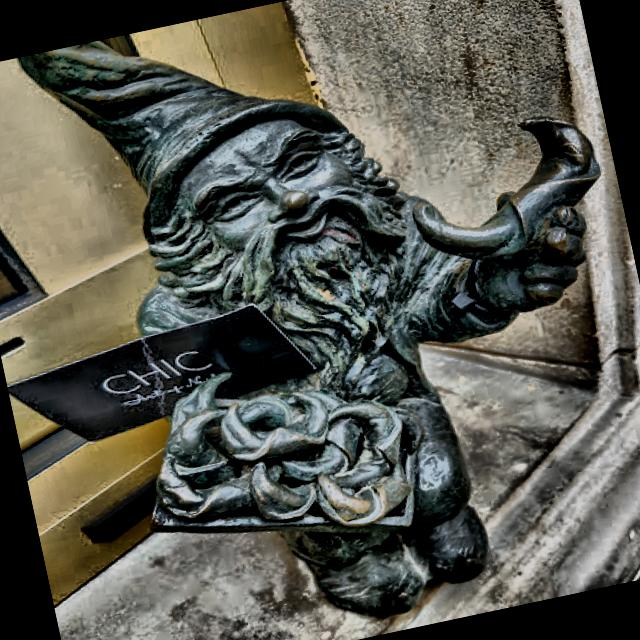Rogalik: (14, 33, 604, 619)
